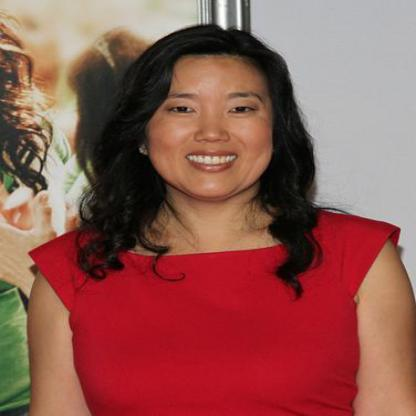long-hair: (84, 201, 328, 243)
